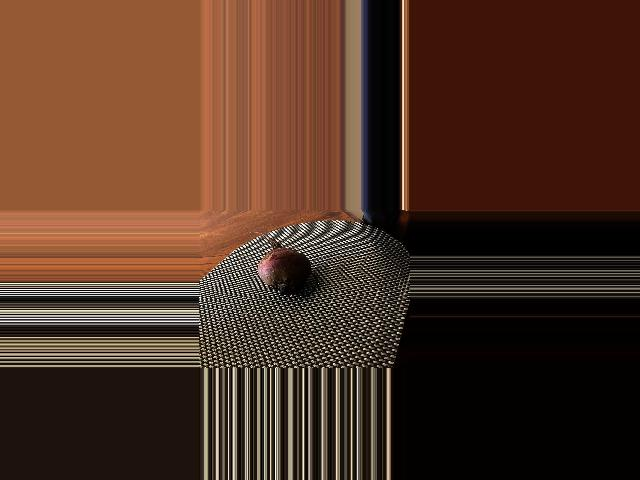beet: (249, 232, 318, 297)
